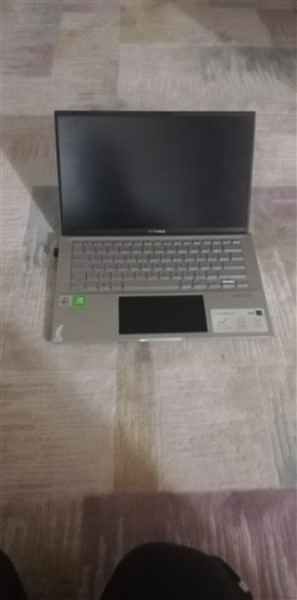laptop: (49, 106, 277, 347)
